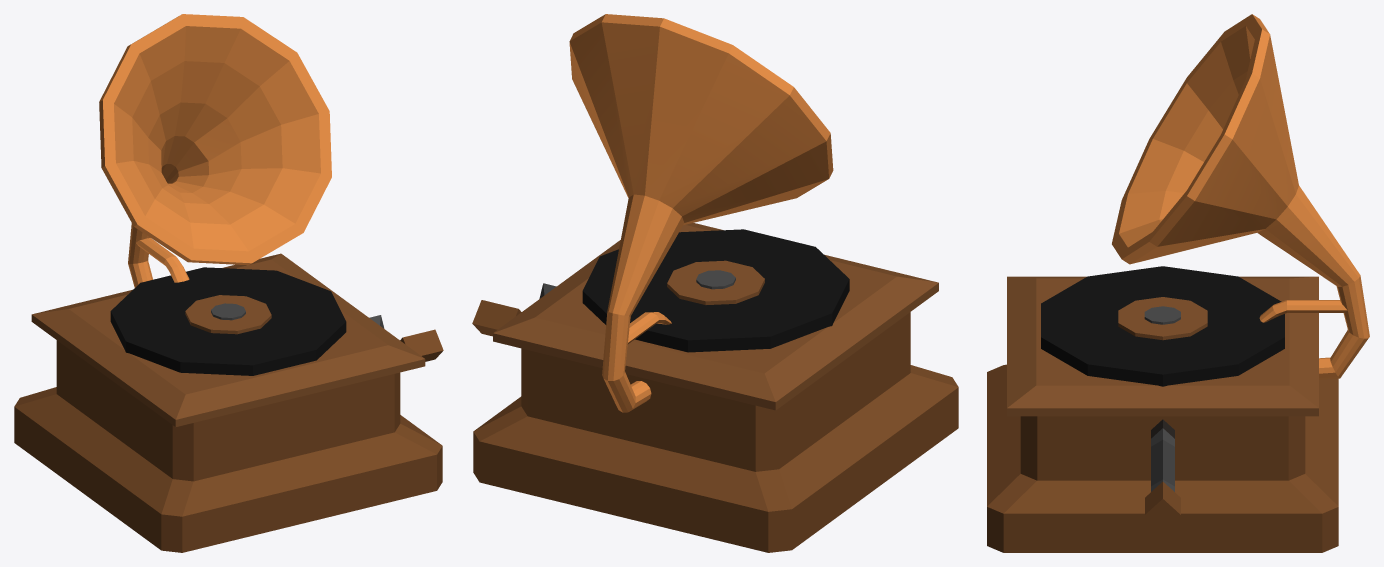
3 renders of one model, left to right at view 1: azimuth 30°, elevation 25°; view 2: azimuth 150°, elevation 25°; view 3: azimuth 270°, elevation 25°, orthographic. The views are drawn at different scales.
Parts seen in each view (by area): view 1: LP; view 2: LP; view 3: LP.
Part boxes in pixels (x1,y1,x2,y2): LP: (14, 14, 443, 552); LP: (472, 14, 958, 552); LP: (987, 14, 1369, 552).
Bounding box in the file's own units: 1.11 × 1.27 × 0.9796.
Materials: 1 (1 with a texture image).
